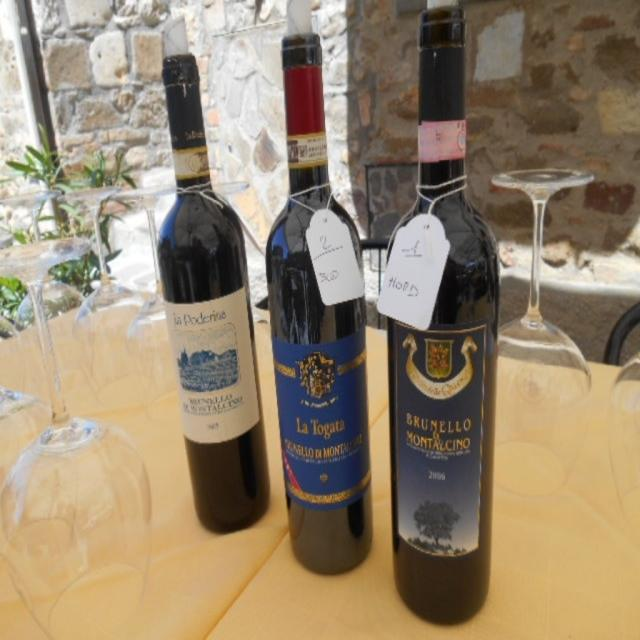Bottle: (269, 0, 405, 559), (380, 54, 497, 610), (164, 18, 273, 534)
